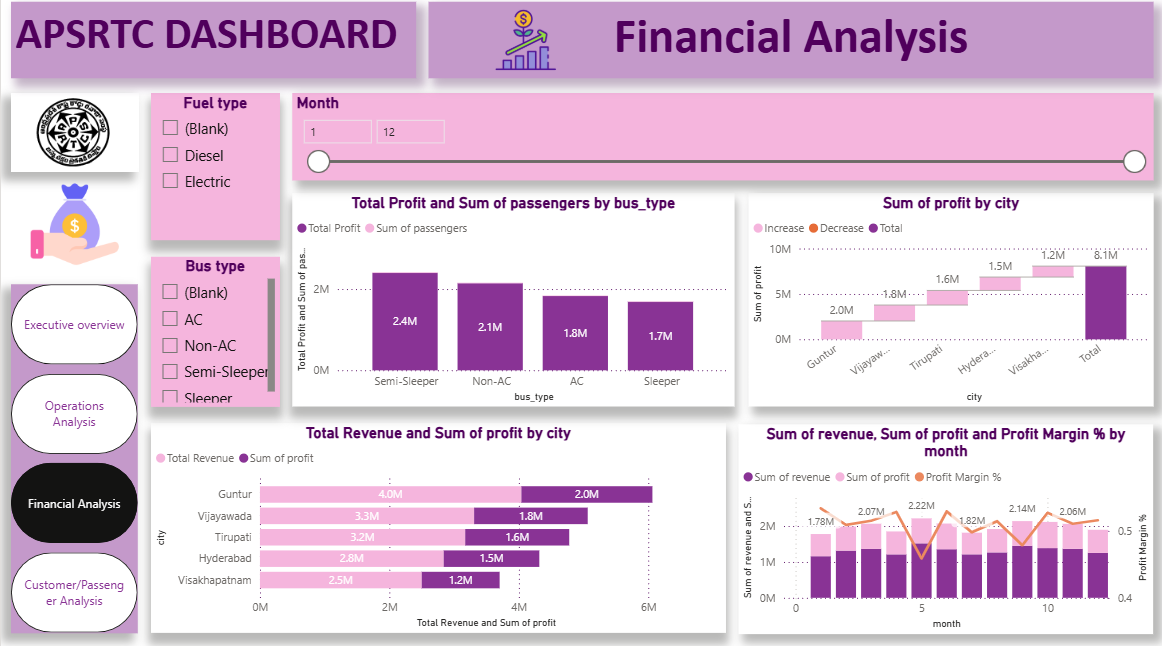

Layout of this report page (visuals, bound fields, positions):
{"tool":"powerbi","page":{"name":"Financial Analysis","canvas":[1280,720],"ordinal":2},"visuals":[{"type":"barChart","fields":{"Category":["dim_stations.city"],"Y":["fact_trips.Total Revenue","Sum(fact_trips.profit)"]},"box":[164.6,472,631.2,230.5],"z":0,"group":"g1"},{"type":"columnChart","fields":{"Category":["dim_buses.bus_type"],"Y":["fact_trips.Total Profit","Sum(fact_trips.passengers)"]},"box":[319.7,219.5,485.8,234.6],"z":1000,"group":"g1"},{"type":"lineStackedColumnComboChart","fields":{"Category":["dim_dates.month"],"Y":["Sum(fact_trips.revenue)","Sum(fact_trips.profit)"],"Y2":["fact_trips.Profit Margin %"]},"box":[809.6,473.4,455.6,230.5],"z":2000,"group":"g1"},{"type":"waterfallChart","fields":{"Category":["dim_stations.city"],"Y":["Sum(fact_trips.profit)"]},"box":[820.6,219.5,444.6,234.6],"z":3000,"group":"g1"},{"type":"slicer","title":"Fuel type","fields":{"Values":["dim_buses.fuel_type"]},"box":[164.6,109.8,141.3,161.9],"z":4000,"group":"g1"},{"type":"slicer","title":"Month","fields":{"Values":["dim_dates.month"]},"box":[319.7,109.8,945.5,96.1],"z":5000,"group":"g1"},{"type":"slicer","title":"Bus type","fields":{"Values":["dim_buses.bus_type"]},"box":[164.6,289.5,141.3,164.7],"z":6000,"group":"g1"},{"type":"textbox","box":[11,9.6,444.6,83.7],"z":7000,"group":"g1"},{"type":"textbox","box":[469.3,9.6,795.9,83.7],"z":8000,"group":"g1"},{"type":"pageNavigator","box":[10.8,319.4,139.4,383],"z":9000,"group":"g1"},{"type":"image","box":[11,109.8,140,86.4],"z":10000,"group":"g1"},{"type":"image","box":[11,205.8,140,96.1],"z":11000,"group":"g1"},{"type":"image","box":[513.2,15.1,126.2,72.7],"z":12000,"group":"g1"},{"type":"group","id":"g1","title":"Group 1","box":[10.8,9.6,1254.4,694.3],"z":12001}]}

Visuals, with their boxes in screenshot pixels (x1, y1, x2, y2), scaled from the page's 1280x720 canvas onto the 1162x646 screenshot:
barChart - dim_stations.city x fact_trips.Total Revenue: select_region(149, 423, 722, 630)
columnChart - dim_buses.bus_type x fact_trips.Total Profit: select_region(290, 197, 731, 407)
lineStackedColumnComboChart - dim_dates.month x Sum(fact_trips.revenue): select_region(735, 425, 1149, 632)
waterfallChart - dim_stations.city x Sum(fact_trips.profit): select_region(745, 197, 1149, 407)
"Fuel type" slicer: select_region(149, 99, 278, 244)
"Month" slicer: select_region(290, 99, 1149, 185)
"Bus type" slicer: select_region(149, 260, 278, 408)
textbox: select_region(10, 9, 414, 84)
textbox: select_region(426, 9, 1149, 84)
pageNavigator: select_region(10, 287, 136, 630)
image: select_region(10, 99, 137, 176)
image: select_region(10, 185, 137, 271)
image: select_region(466, 14, 580, 79)
"Group 1" group: select_region(10, 9, 1149, 632)
